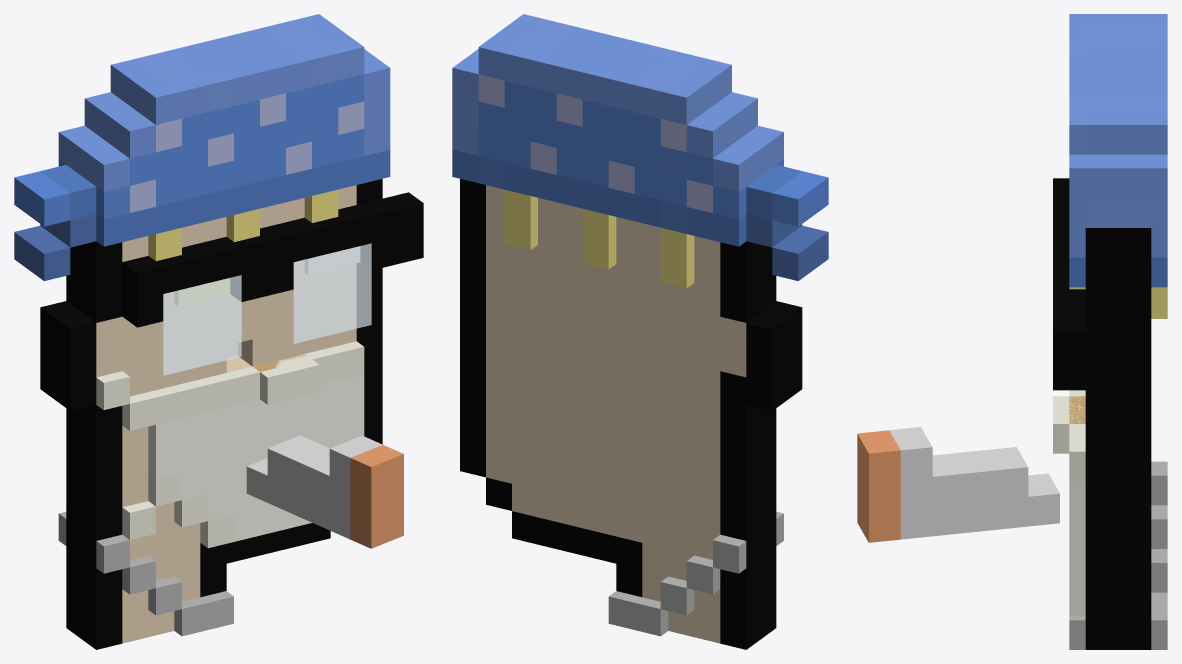
The picture shows the model from 3 angles, left to right: view 1: azimuth 30°, elevation 25°; view 2: azimuth 150°, elevation 25°; view 3: azimuth 270°, elevation 25°; orthographic projection. The views are drawn at different scales.
Visible parts, largest first — view 1: face_main, hat_bandana_crips_face2, accessories_covid_mask, glasses_designer_mount, glasses_designer_glass, blunt, hat_bandana_crips_mid1, hat_bandana_cripsmid2, back_main, jewels_necklass_front, hat_bandana_crips_back1, hair10_front (+4 smaller); view 2: back_main, hat_bandana_crips_back1, hat_bandana_cripsmid2, hat_bandana_crips_mid1, face_main, hair10_back, jewels_necklass_back, hat_bandana_crips_face2, jewels_necklass_neck; view 3: blunt, face_main, back_main, hat_bandana_cripsmid2, hat_bandana_crips_mid1, glasses_designer_mount, hat_bandana_crips_back1, hat_bandana_crips_face2, accessories_covid_mask, jewels_necklass_neck (×2), jewels_necklass_back, accessories_covid_mask_nose (+2 smaller).
Part boxes in pixels (x1=…): face_main: x1=55, y1=179, x2=382, y2=649; hat_bandana_crips_face2: x1=96, y1=41, x2=390, y2=246; accessories_covid_mask: x1=96, y1=341, x2=364, y2=548; glasses_designer_mount: x1=122, y1=192, x2=423, y2=327; glasses_designer_glass: x1=163, y1=243, x2=371, y2=375; blunt: x1=246, y1=435, x2=403, y2=548; hat_bandana_crips_mid1: x1=29, y1=30, x2=382, y2=281; hat_bandana_cripsmid2: x1=14, y1=19, x2=367, y2=269; back_main: x1=40, y1=245, x2=237, y2=638; jewels_necklass_front: x1=122, y1=555, x2=207, y2=636; hat_bandana_crips_back1: x1=58, y1=14, x2=326, y2=166; hair10_front: x1=148, y1=189, x2=338, y2=261; back_main: x1=460, y1=179, x2=787, y2=649; hat_bandana_crips_back1: x1=452, y1=41, x2=746, y2=246; hat_bandana_cripsmid2: x1=460, y1=30, x2=813, y2=280; hat_bandana_crips_mid1: x1=475, y1=19, x2=828, y2=269; face_main: x1=761, y1=245, x2=802, y2=638; hair10_back: x1=504, y1=190, x2=694, y2=288; jewels_necklass_back: x1=634, y1=555, x2=720, y2=636; hat_bandana_crips_face2: x1=516, y1=14, x2=783, y2=166; jewels_necklass_neck: x1=608, y1=534, x2=746, y2=629; blunt: x1=857, y1=427, x2=1059, y2=542; face_main: x1=1085, y1=228, x2=1118, y2=649; back_main: x1=1118, y1=228, x2=1151, y2=649; hat_bandana_cripsmid2: x1=1118, y1=14, x2=1151, y2=227; hat_bandana_crips_mid1: x1=1085, y1=14, x2=1118, y2=227; glasses_designer_mount: x1=1053, y1=178, x2=1085, y2=390; hat_bandana_crips_back1: x1=1151, y1=14, x2=1167, y2=287; hat_bandana_crips_face2: x1=1069, y1=14, x2=1085, y2=287; accessories_covid_mask: x1=1069, y1=390, x2=1085, y2=616; jewels_necklass_neck (×2): x1=1069, y1=461, x2=1167, y2=649; jewels_necklass_back: x1=1151, y1=505, x2=1167, y2=606; accessories_covid_mask_nose: x1=1053, y1=396, x2=1085, y2=453.
Bounding box in the file's own units: 14 × 20 × 9.47.
